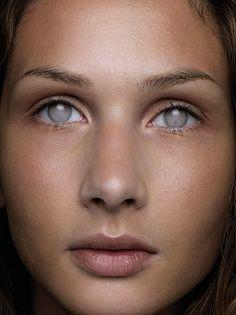no_mask: (5, 8, 231, 307)
